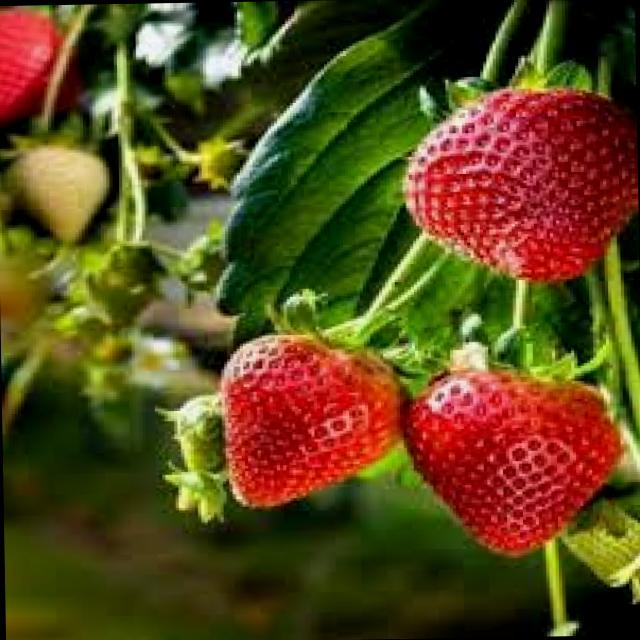strawberry: (392, 85, 639, 289), (400, 347, 624, 562), (194, 314, 406, 510)
